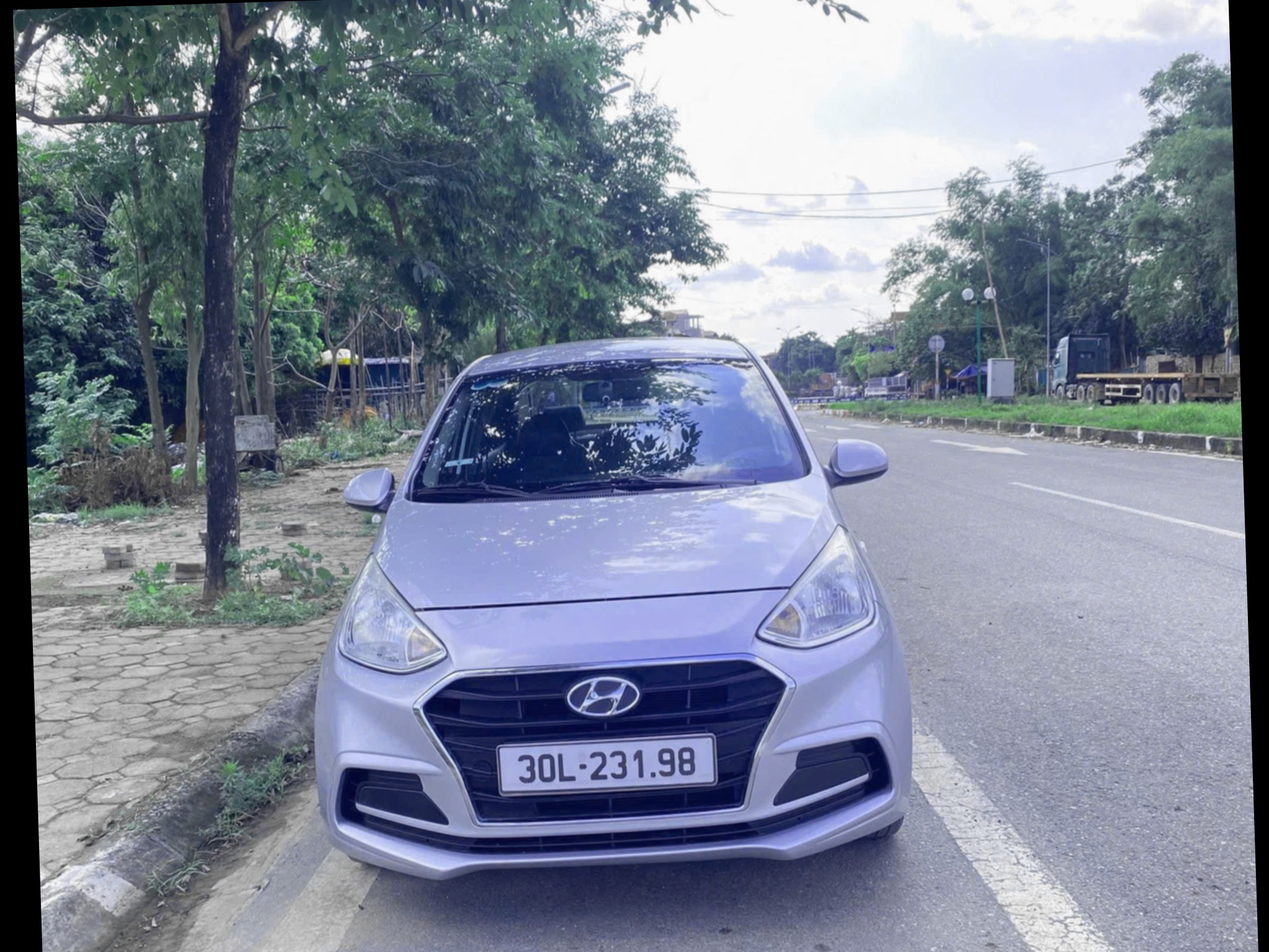Bien-so: (497, 734, 719, 791)
